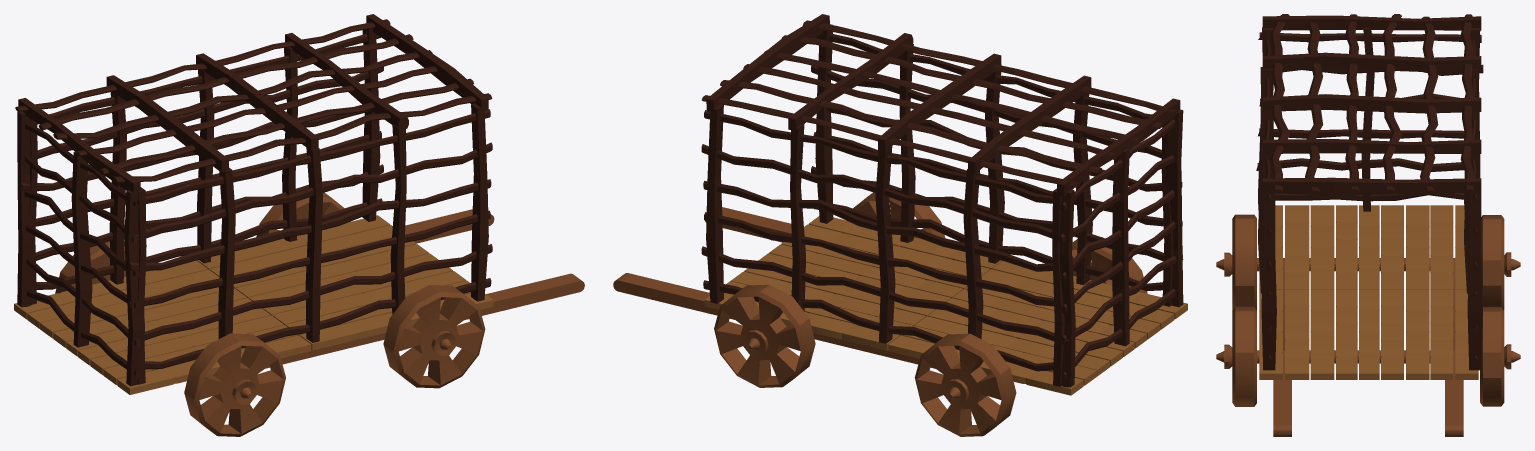
File: jaula_base.fbx
3 renders of one model, left to right at view 1: azimuth 30°, elevation 25°; view 2: azimuth 150°, elevation 25°; view 3: azimuth 270°, elevation 25°, orthographic. The views are drawn at different scales.
Parts seen in each view (by area): view 1: long fence v:199 f:175.001; view 2: long fence v:199 f:175.001; view 3: long fence v:199 f:175.001.
Boxes of the visible parts, bbox=[...] form: long fence v:199 f:175.001: bbox=[14, 14, 584, 436]; long fence v:199 f:175.001: bbox=[613, 14, 1187, 436]; long fence v:199 f:175.001: bbox=[1216, 14, 1520, 436].
Bounding box in the file's own units: 1324 × 733 × 792.
